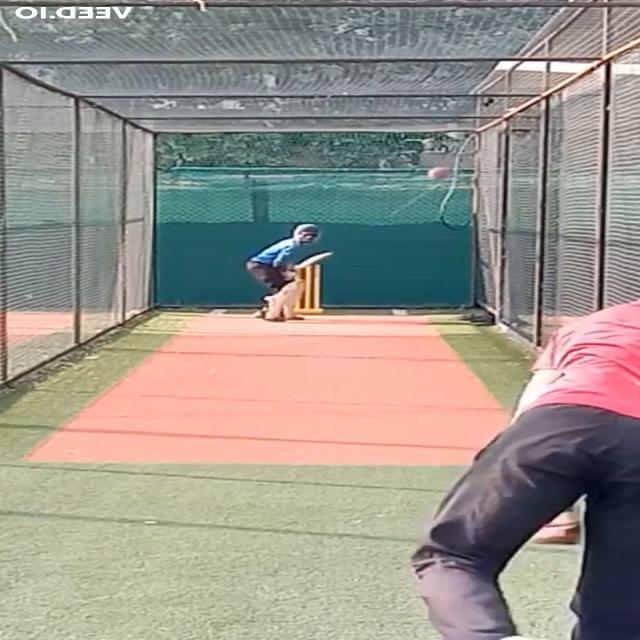ball: (429, 166, 453, 180)
stump: (290, 264, 322, 314)
